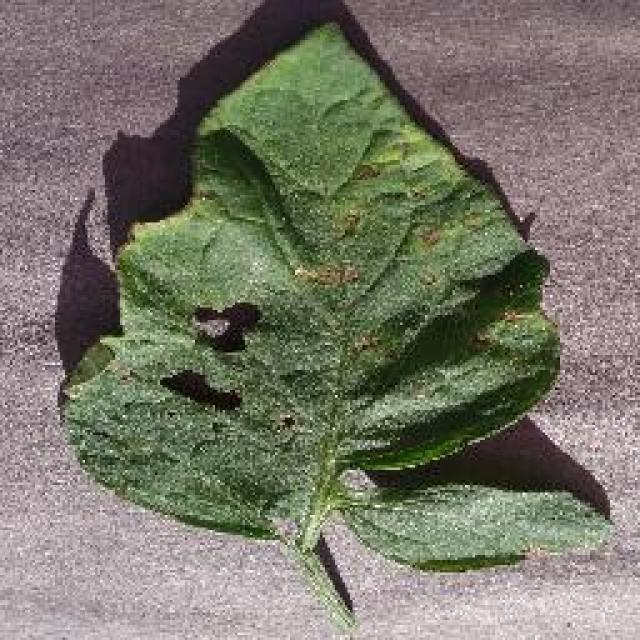Tom_Target_Spot: (285, 132, 561, 392)
